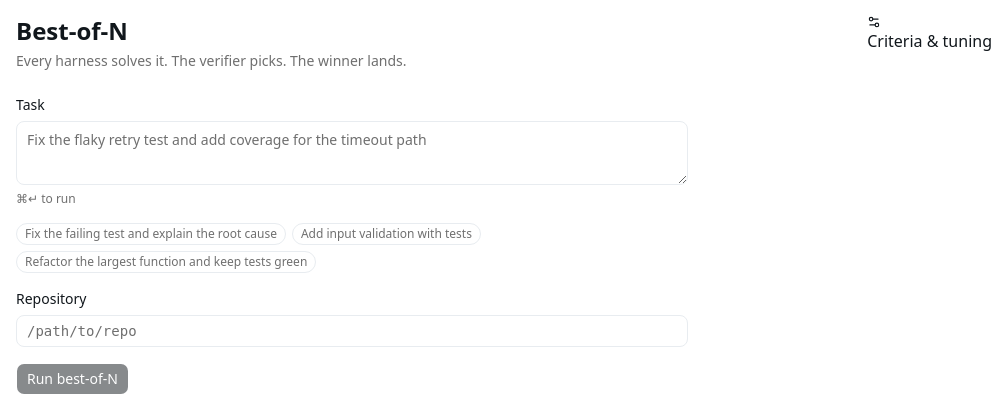
Test: BestOfNRunPage › renders no readiness chrome and doesn't block while the config loads
Replace the text in the text box with test id "best-of-n-run-prompt" with "go" at coordinates (352, 153), box [16,121,688,185]
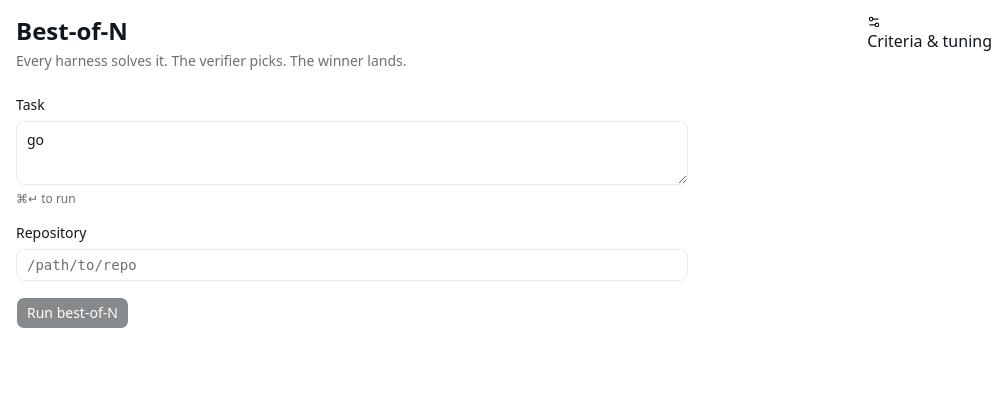
Type "/srv/repo" into the field with test id "best-of-n-run-repo" at coordinates (352, 265), box [16,249,688,281]
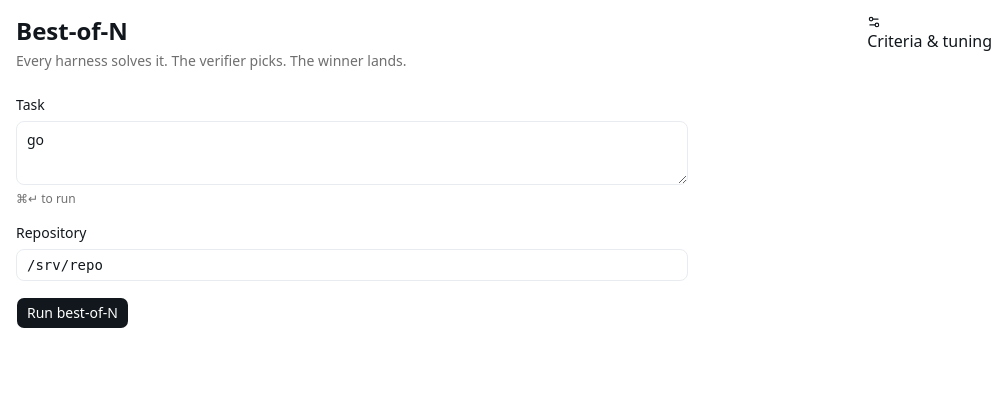
Expected: the button with test id "best-of-n-run-start" is enabled, [16,297,129,329]
